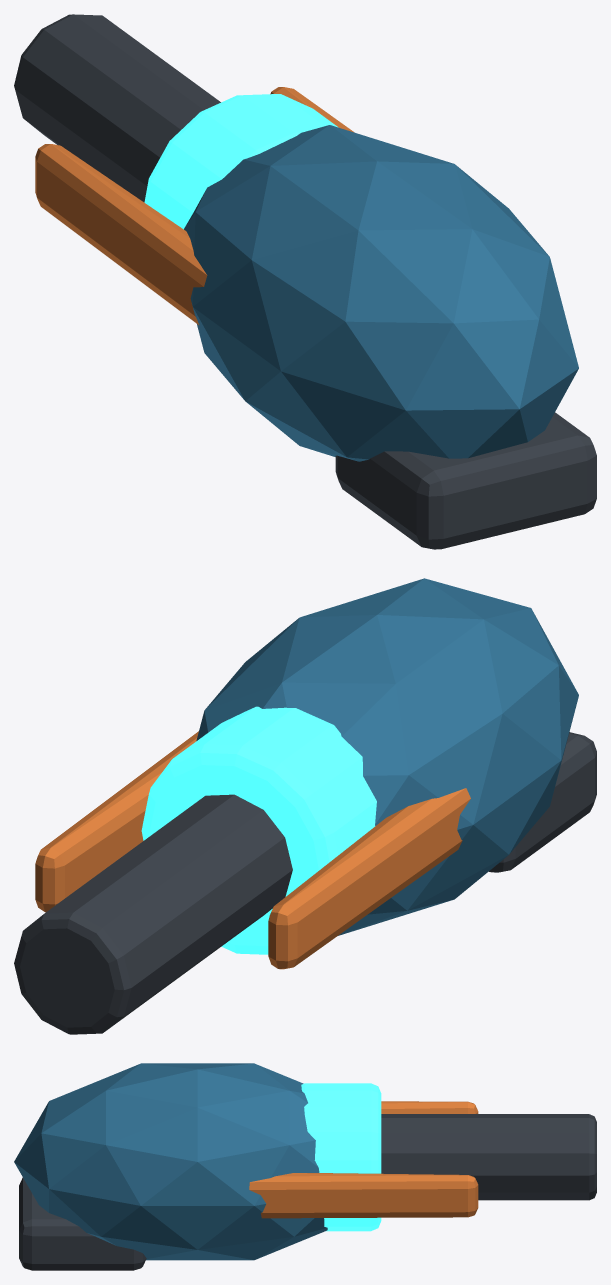
Rendered from EnergyPulse.fbx.
3 renders of one model, top to bottom at view 1: azimuth 30°, elevation 25°; view 2: azimuth 150°, elevation 25°; view 3: azimuth 270°, elevation 25°, orthographic. The views are drawn at different scales.
Visible parts, largest first — view 1: EnergyHousing_RENDER, EnergyEmitter_RENDER, EnergyMount_RENDER, EnergyProngL_RENDER, EnergyCoil_RENDER; view 2: EnergyHousing_RENDER, EnergyEmitter_RENDER, EnergyCoil_RENDER, EnergyProngL_RENDER, EnergyProngR_RENDER, EnergyMount_RENDER; view 3: EnergyHousing_RENDER, EnergyEmitter_RENDER, EnergyProngR_RENDER, EnergyCoil_RENDER, EnergyMount_RENDER, EnergyProngL_RENDER.
Part boxes in pixels (box(x1,y1,x2,y2)): EnergyHousing_RENDER: box(184, 125, 578, 461); EnergyEmitter_RENDER: box(14, 14, 220, 202); EnergyMount_RENDER: box(335, 412, 596, 549); EnergyProngL_RENDER: box(35, 144, 207, 324); EnergyCoil_RENDER: box(144, 94, 338, 229); EnergyHousing_RENDER: box(196, 578, 578, 935); EnergyEmitter_RENDER: box(14, 794, 292, 1034); EnergyCoil_RENDER: box(141, 706, 376, 954); EnergyProngL_RENDER: box(268, 788, 470, 969); EnergyProngR_RENDER: box(35, 731, 198, 912); EnergyMount_RENDER: box(489, 732, 596, 872); EnergyHousing_RENDER: box(14, 1063, 327, 1260); EnergyEmitter_RENDER: box(381, 1114, 596, 1200); EnergyProngR_RENDER: box(249, 1173, 478, 1218); EnergyCoil_RENDER: box(301, 1083, 381, 1231); EnergyMount_RENDER: box(19, 1177, 146, 1270); EnergyProngL_RENDER: box(381, 1101, 478, 1113).
Bounding box in the file's own units: 0.8179 × 0.8 × 2.28.
